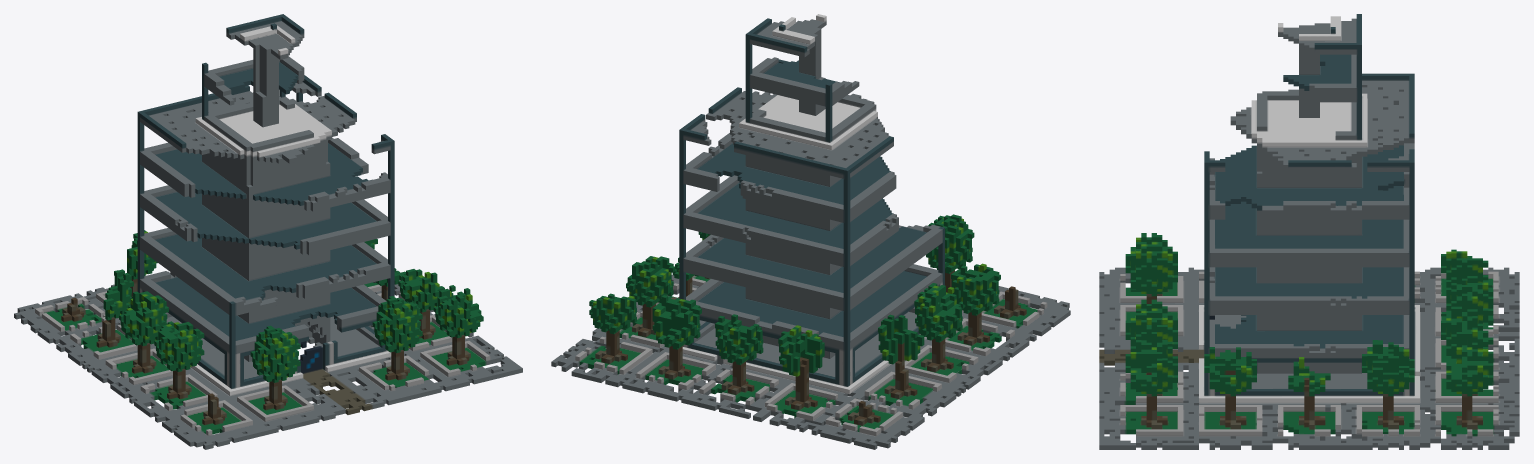
Rendered from building_big_2_destroyed.glb.
3 views of the same model, side by side, from view 1: azimuth 30°, elevation 25°; view 2: azimuth 150°, elevation 25°; view 3: azimuth 270°, elevation 25° (orthographic). The views are drawn at different scales.
Parts seen in each view (by area): view 1: building_big_2_destroyed; view 2: building_big_2_destroyed; view 3: building_big_2_destroyed.
Part boxes in pixels (bbox=[...]): building_big_2_destroyed: bbox=[14, 14, 522, 449]; building_big_2_destroyed: bbox=[551, 14, 1070, 449]; building_big_2_destroyed: bbox=[1099, 14, 1519, 449].
Size of the model in its own units: 8 by 7.2 by 8.
1 material, 1 textured.
